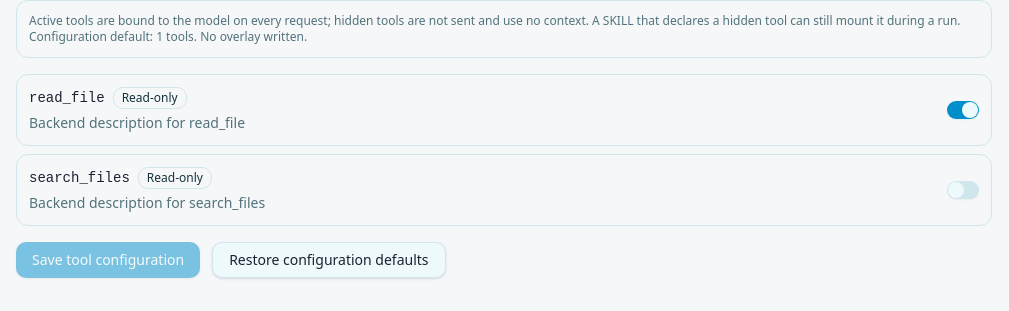
Scenario: ToolsSettingsCard mounted feedback › preserves raw backend save errors across locale changes (后端拒绝：settings.yaml is read-only)
The width and height of the screenshot is (1009, 311).
Click the switch named "read_file active status" at (963, 110), box [947,101,979,119]
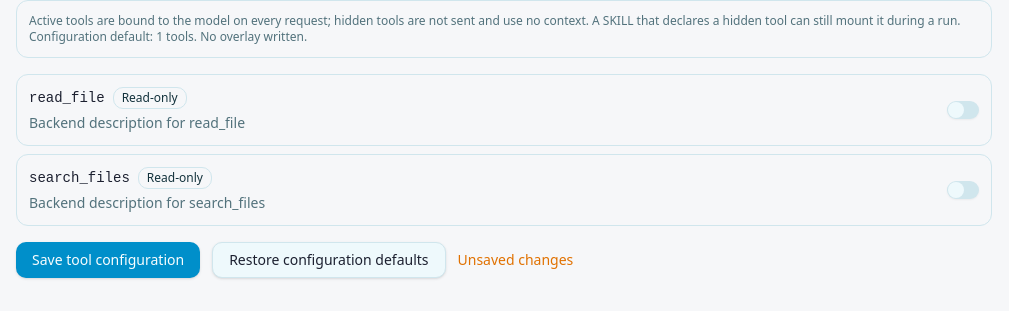
Expected: the button "Save tool configuration" is enabled
Click the button "Save tool configuration" at (108, 260), box [16,242,200,278]
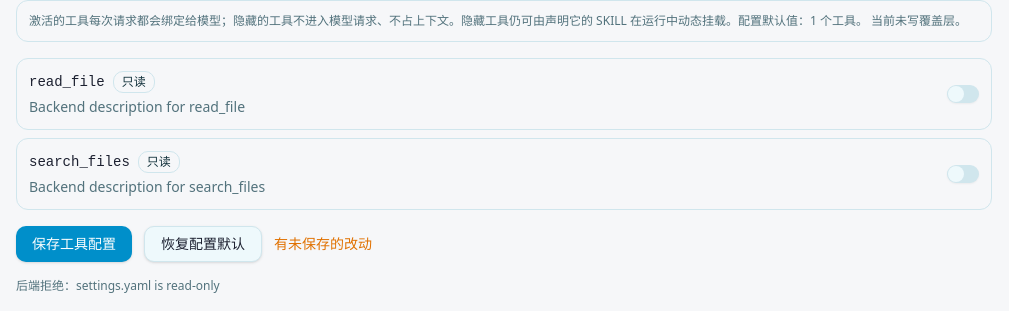
Expected: the button "保存工具配置" is enabled, [16,226,132,262]
Expected: the text "后端拒绝：settings.yaml is read-only" is shown, [16,277,220,294]
